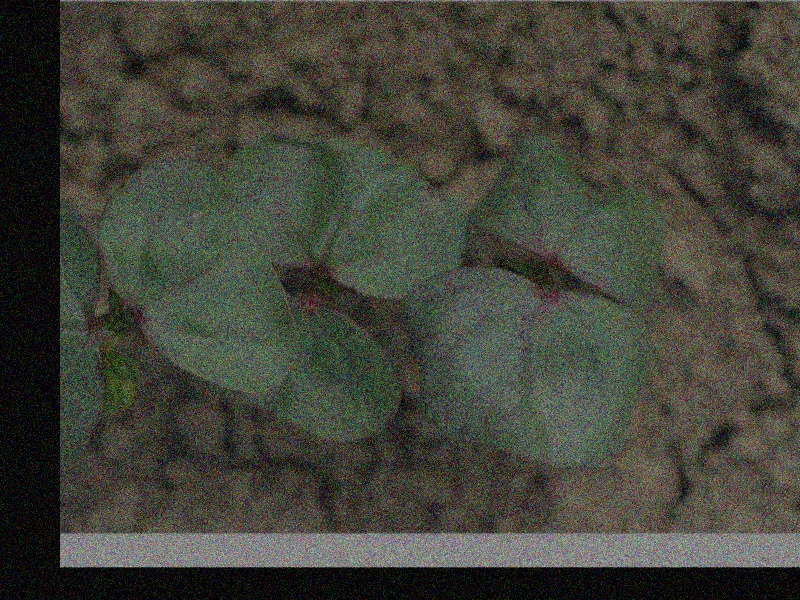cotton: (59, 131, 665, 469)
